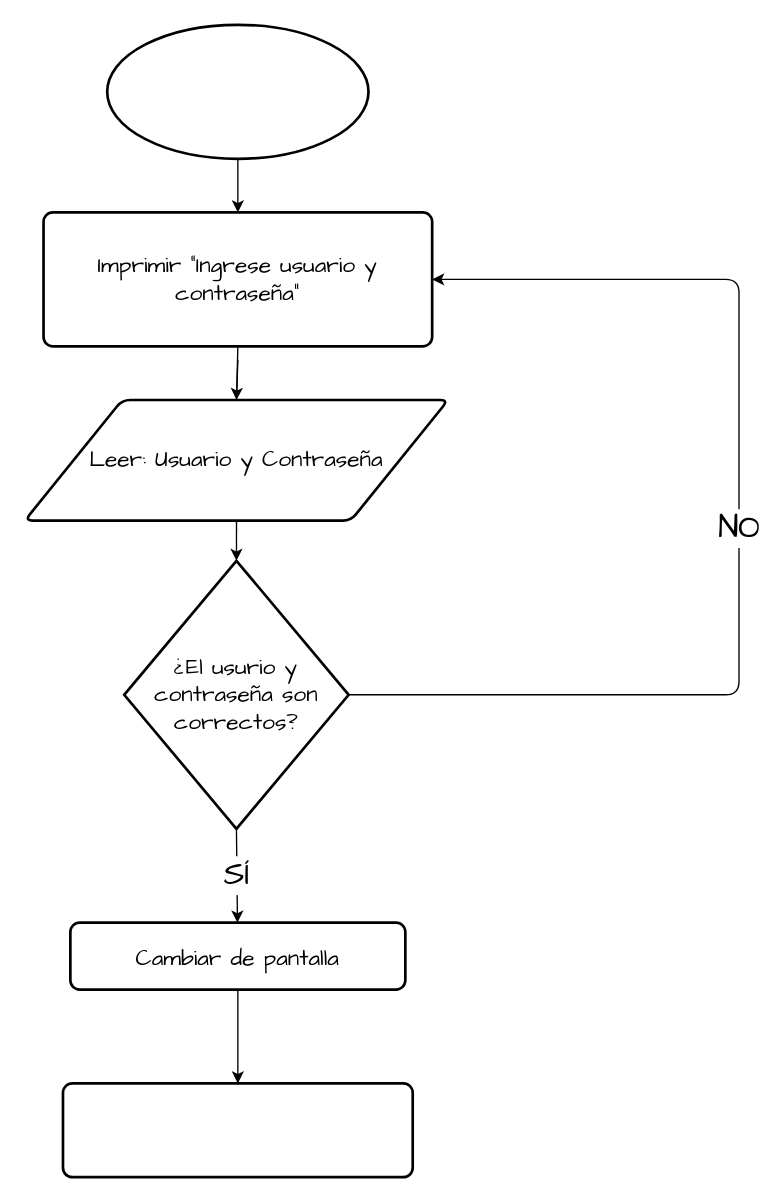
Some shapes in this 783 by 1201 pixel diagram are drawn without their labels. The centre of each missing label's shape, as x and y in pixels:
Imprimir: "Nombre y Datos del Cliente": (237,1129)
INICIO: (237,91)
